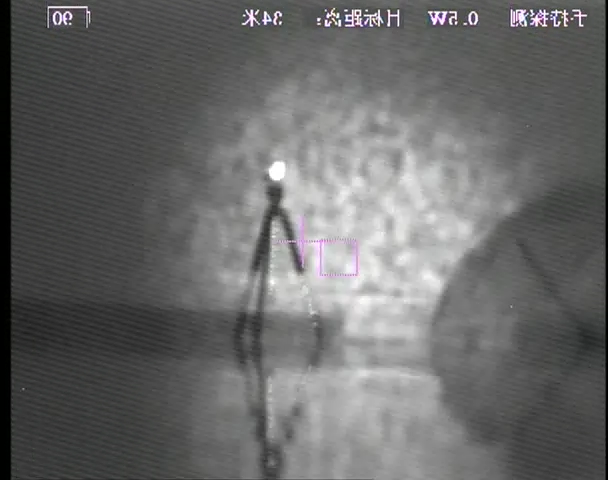my: (266, 158, 288, 182)
